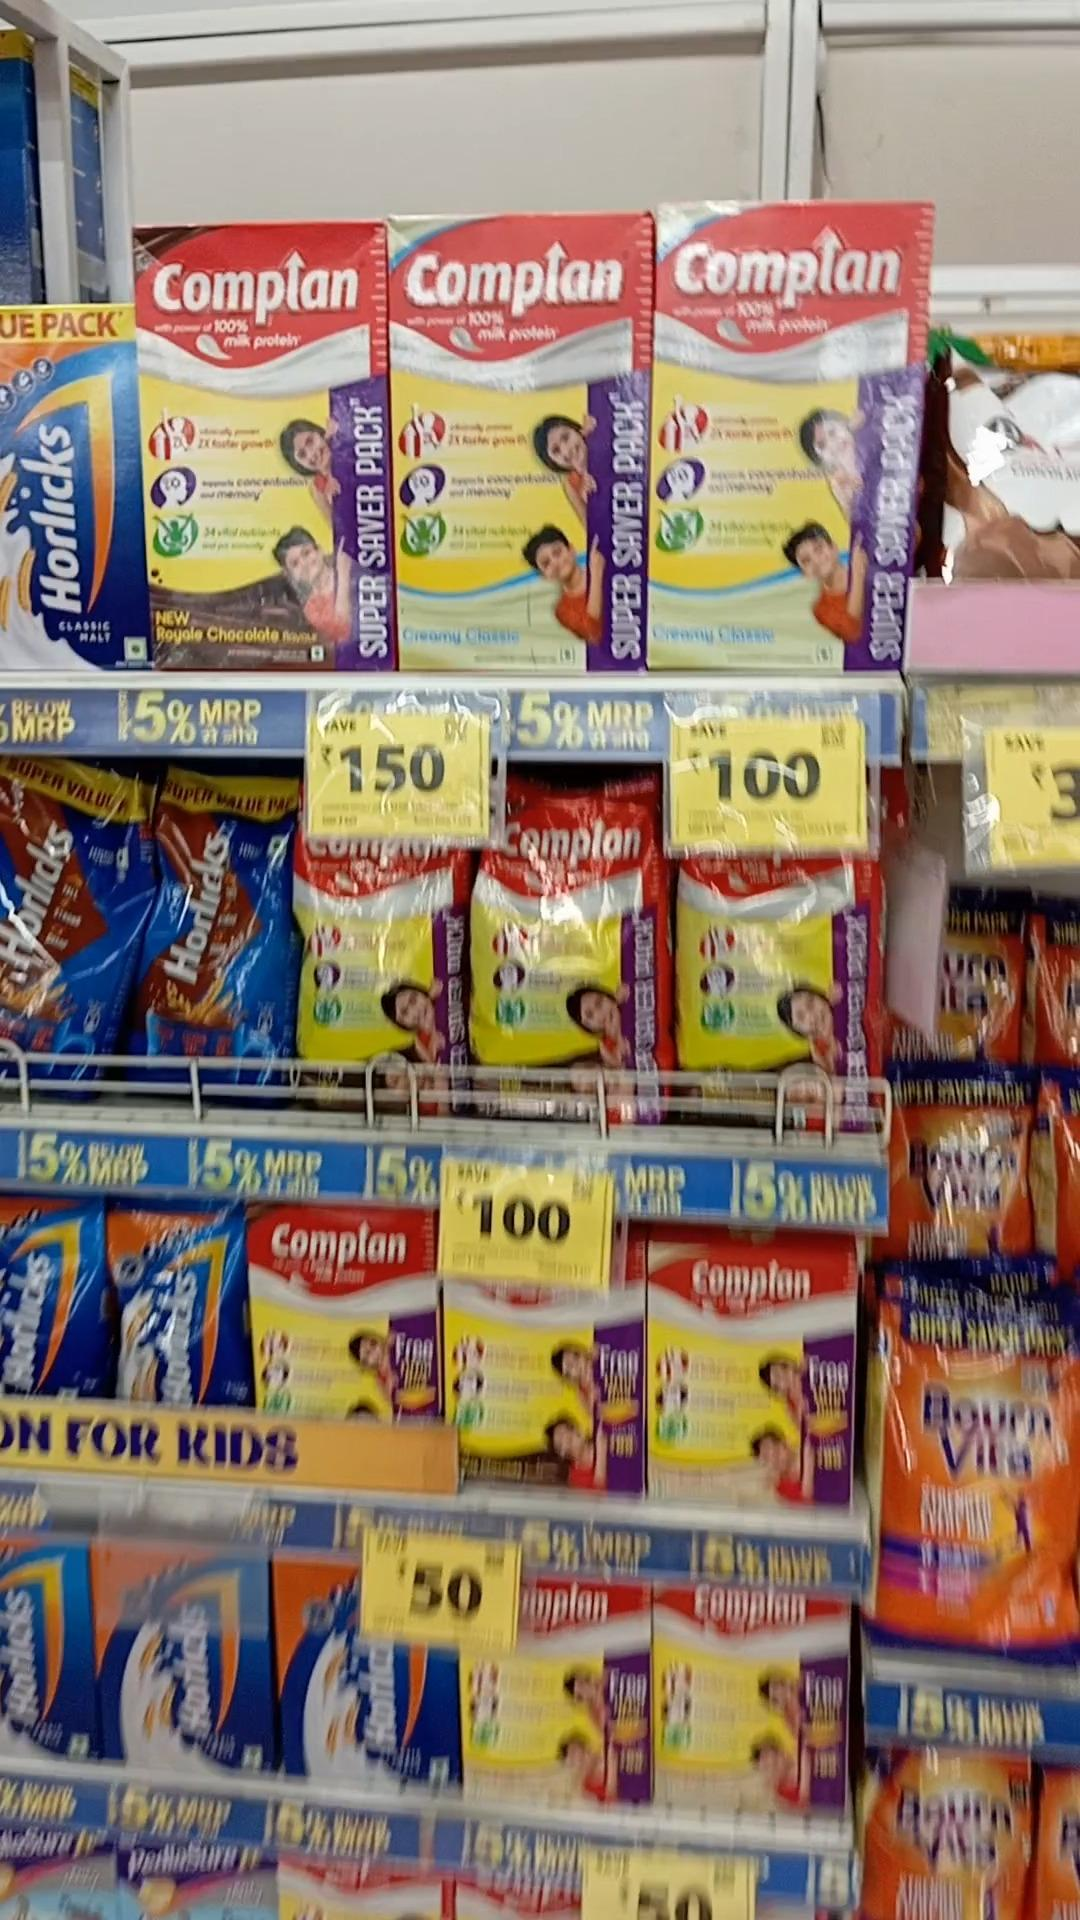BOURN_VITA_1_KG_POUCH: (870, 1303, 1080, 1659)
COMPLAN_CHOCOLATE_1_KG_PACK: (144, 223, 388, 667)
COMPLAN_CHOCOLATE_500_GMS_PACK: (448, 1276, 640, 1498)
COMPLAN_KESAR_BADAM_500_GMS_PACK: (650, 1241, 855, 1510), (659, 1584, 851, 1818), (471, 1585, 649, 1800)
COMPLAN_RC_POUCH_700_GMS_12: (471, 767, 663, 1113), (675, 858, 880, 1129), (291, 831, 464, 1109)
HORLICK_CHOCOLATE_750_G_POUCH: (1, 762, 148, 1096), (150, 774, 291, 1087)
HORLICK_CLASSIC_MALT_500_G_PACK: (277, 1559, 463, 1785), (92, 1549, 265, 1763)
HORLICK_CLASSIC_MALT_750_G_POUCH: (103, 1192, 245, 1402), (0, 1200, 96, 1400)
